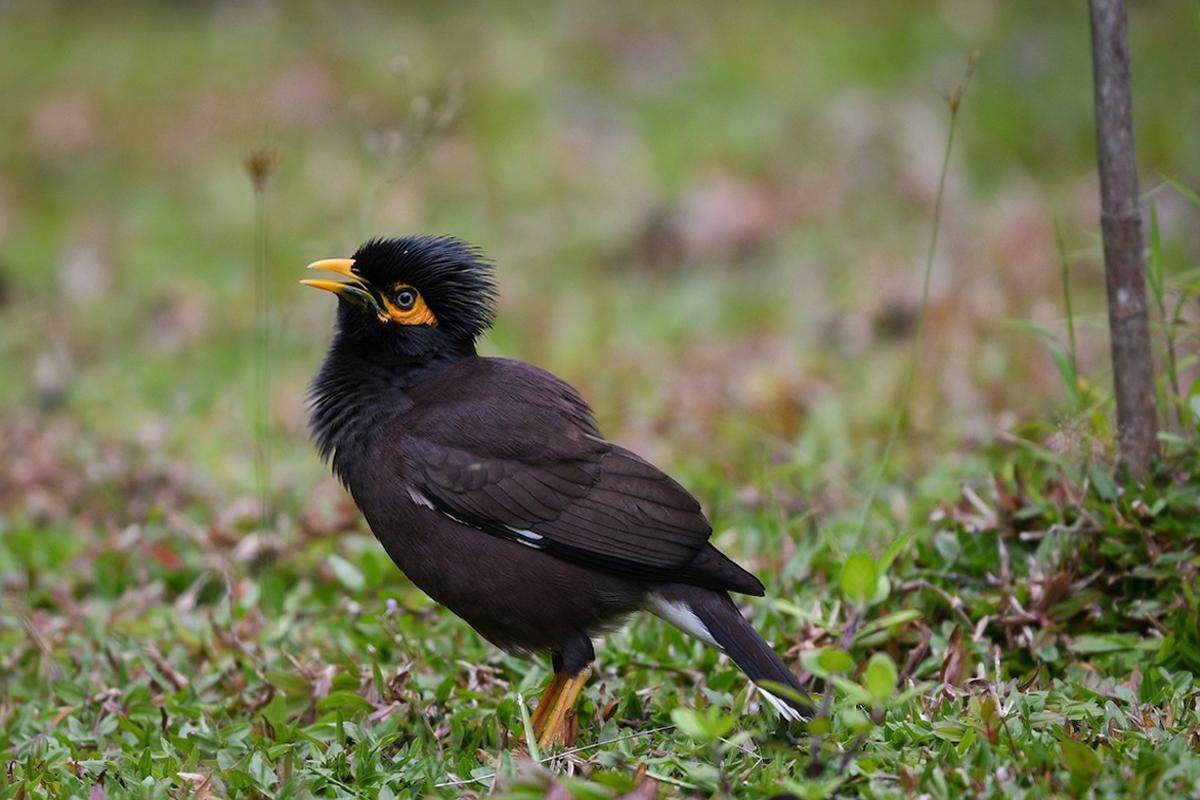myna: (283, 176, 709, 725)
